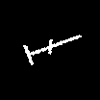double_crochet: (23, 35, 81, 64)
